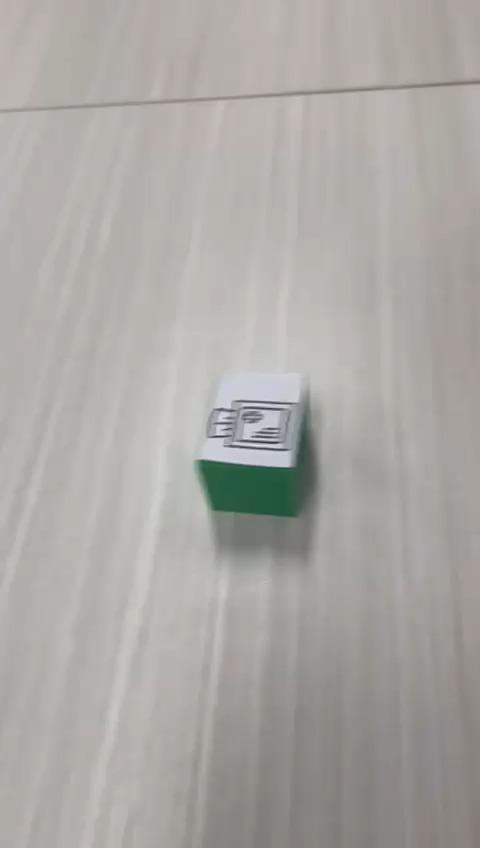Gauze: (192, 369, 310, 518)
